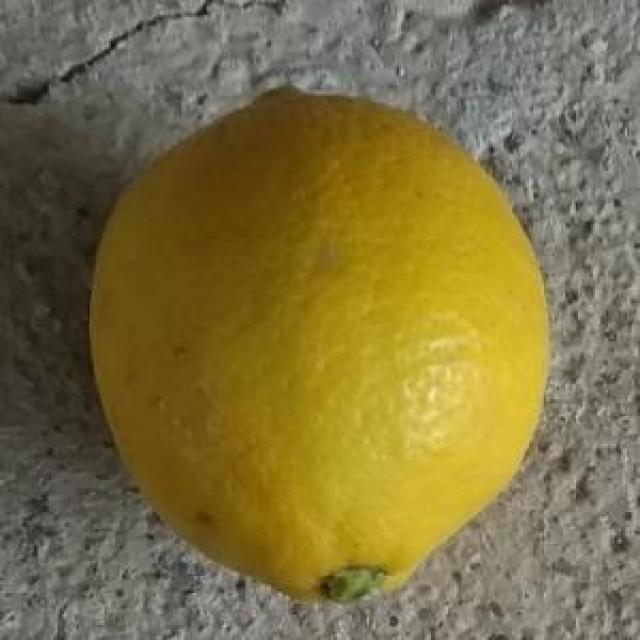lemon: (89, 87, 556, 605)
